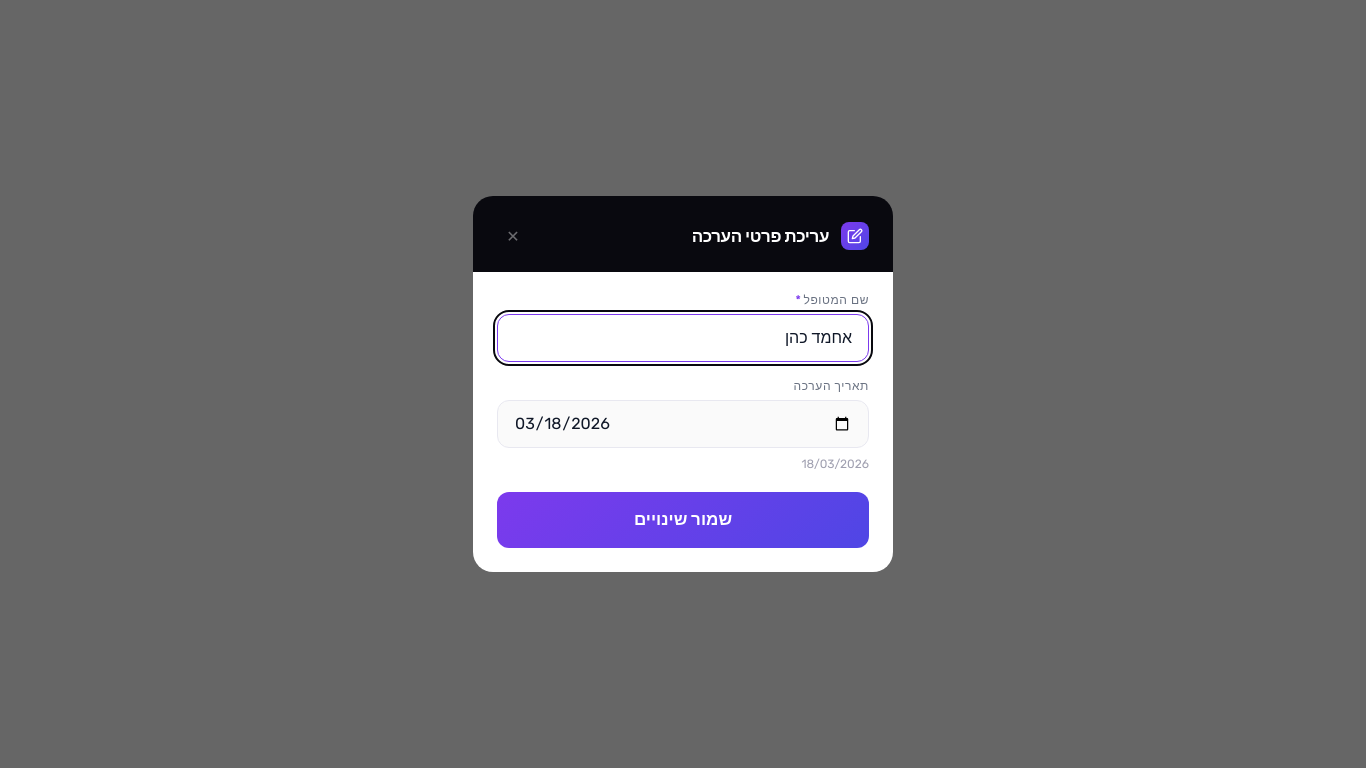
Test: EditAssessmentModal › clears validation error when user starts typing
Clear the field labelled "שם המטופל*" at {"x": 683, "y": 338}, box [497, 314, 869, 362]
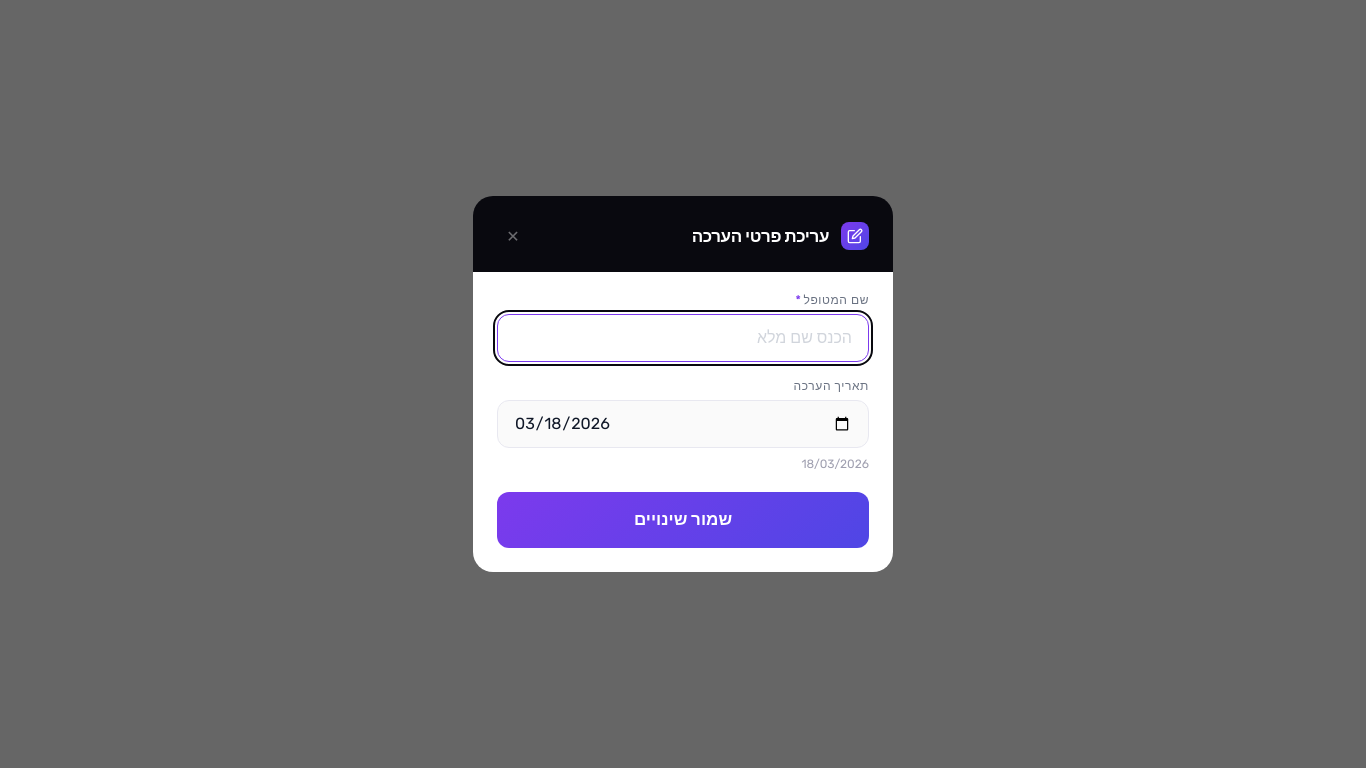
Click the button "שמור שינויים".
click(683, 520)  # box [497, 492, 869, 548]
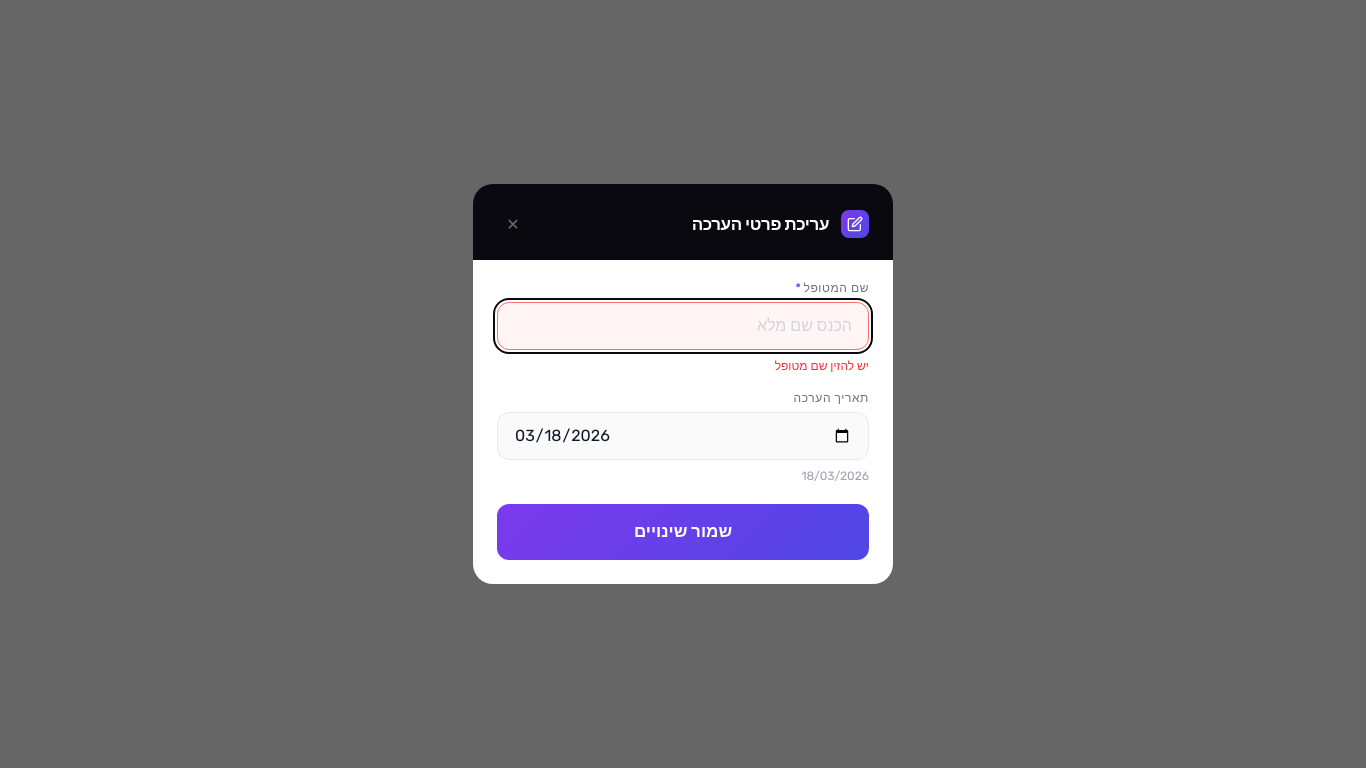
Now the message "יש להזין שם מטופל" is shown, box [775, 359, 869, 373]
Type "א" into the field labelled "שם המטופל*".
click(683, 326); type("א")  # box [497, 302, 869, 350]
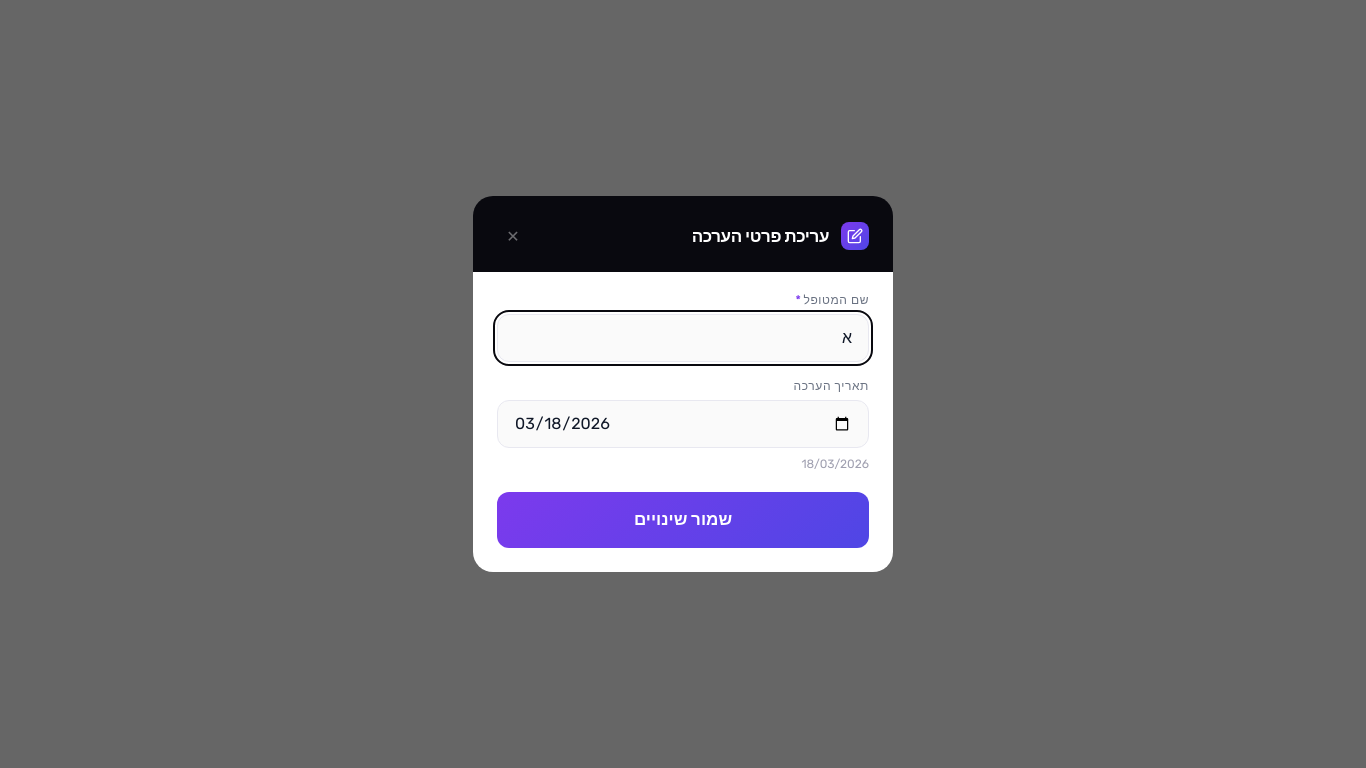
Now the message "יש להזין שם מטופל" is gone
